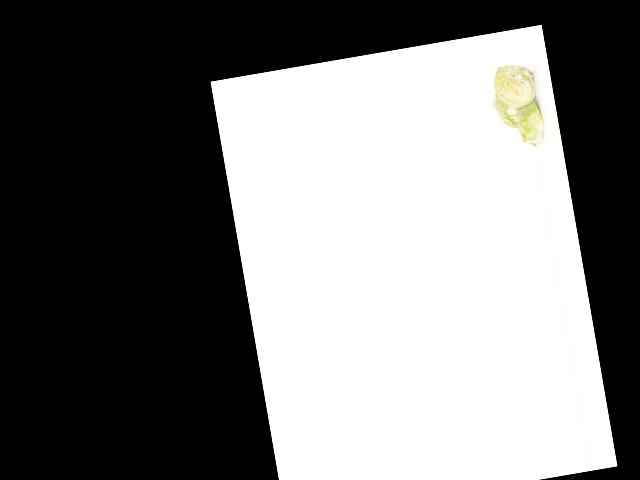lettuce: (489, 84, 526, 135)
